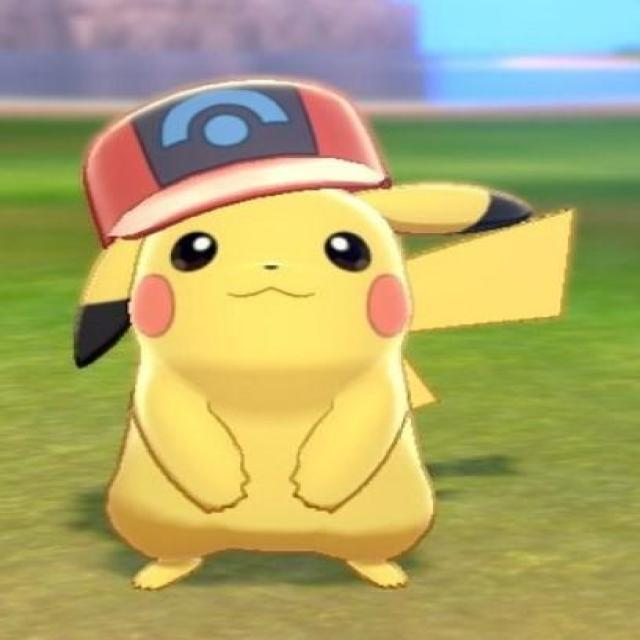pikachu: (75, 180, 571, 592)
